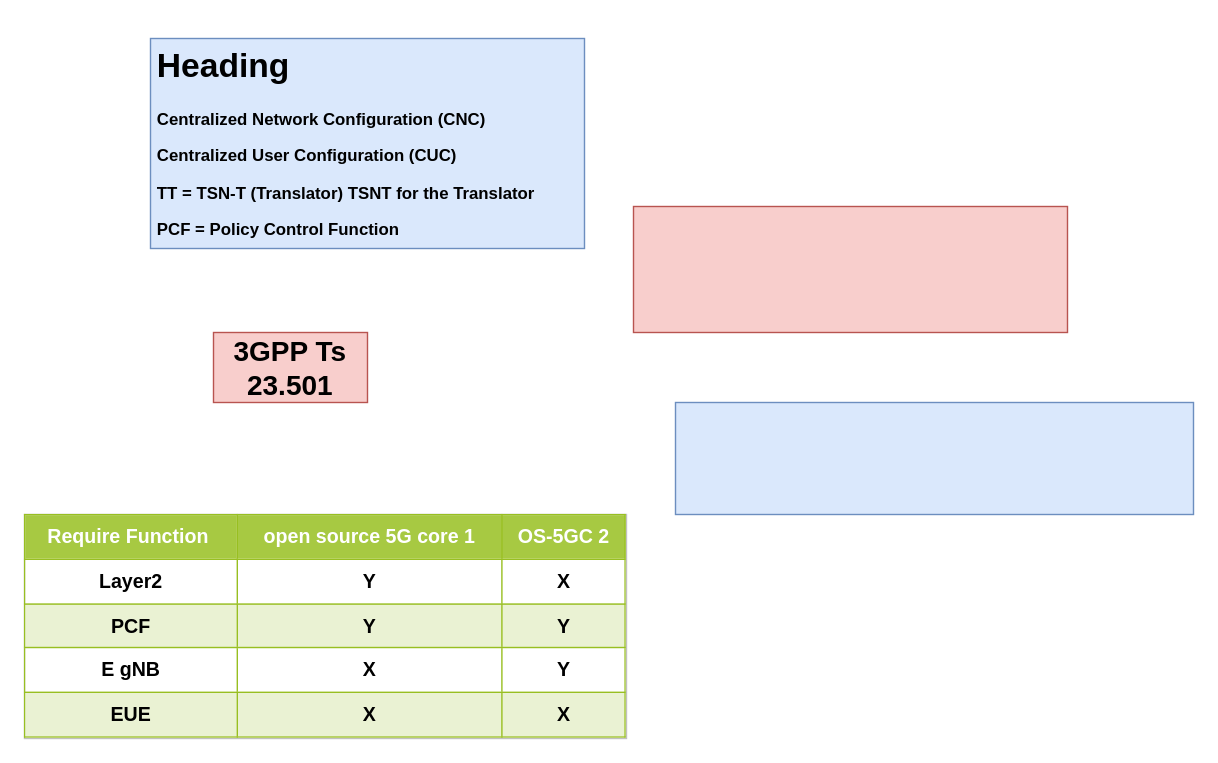
The diagram is 1218 pixels wide and 763 high, and some of its shapes have lost their labels. The centre of each missing label's shape, as x and y in pixels:
"Evaluation Performance, Scalability, Compliance" belongs at [850,268].
"Notes: E gNB for an gNB at the Edge Node." belongs at [934,457].
